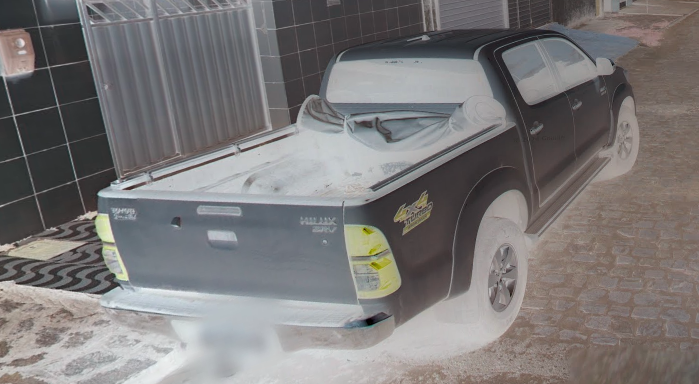car: (95, 27, 644, 343)
